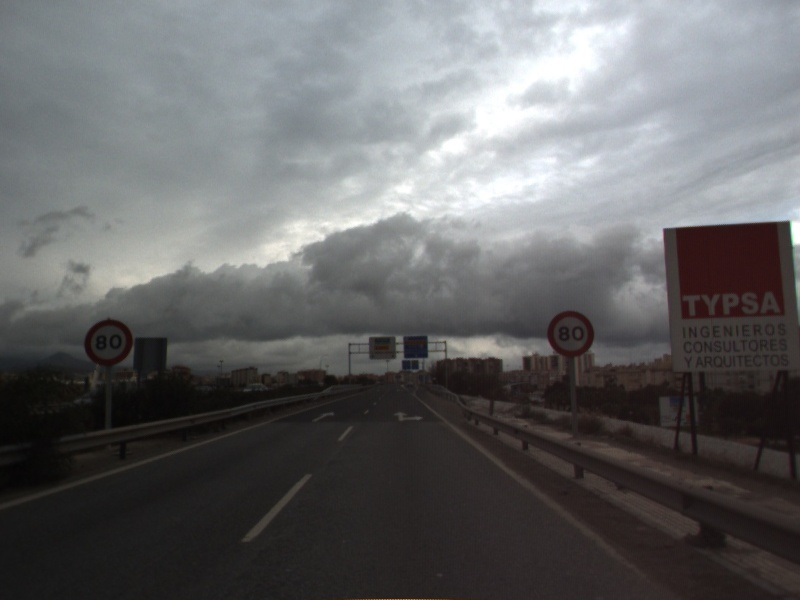STRAIGHT: (309, 408, 336, 424)
STRAIGHT_RIGHT: (391, 409, 426, 424)
